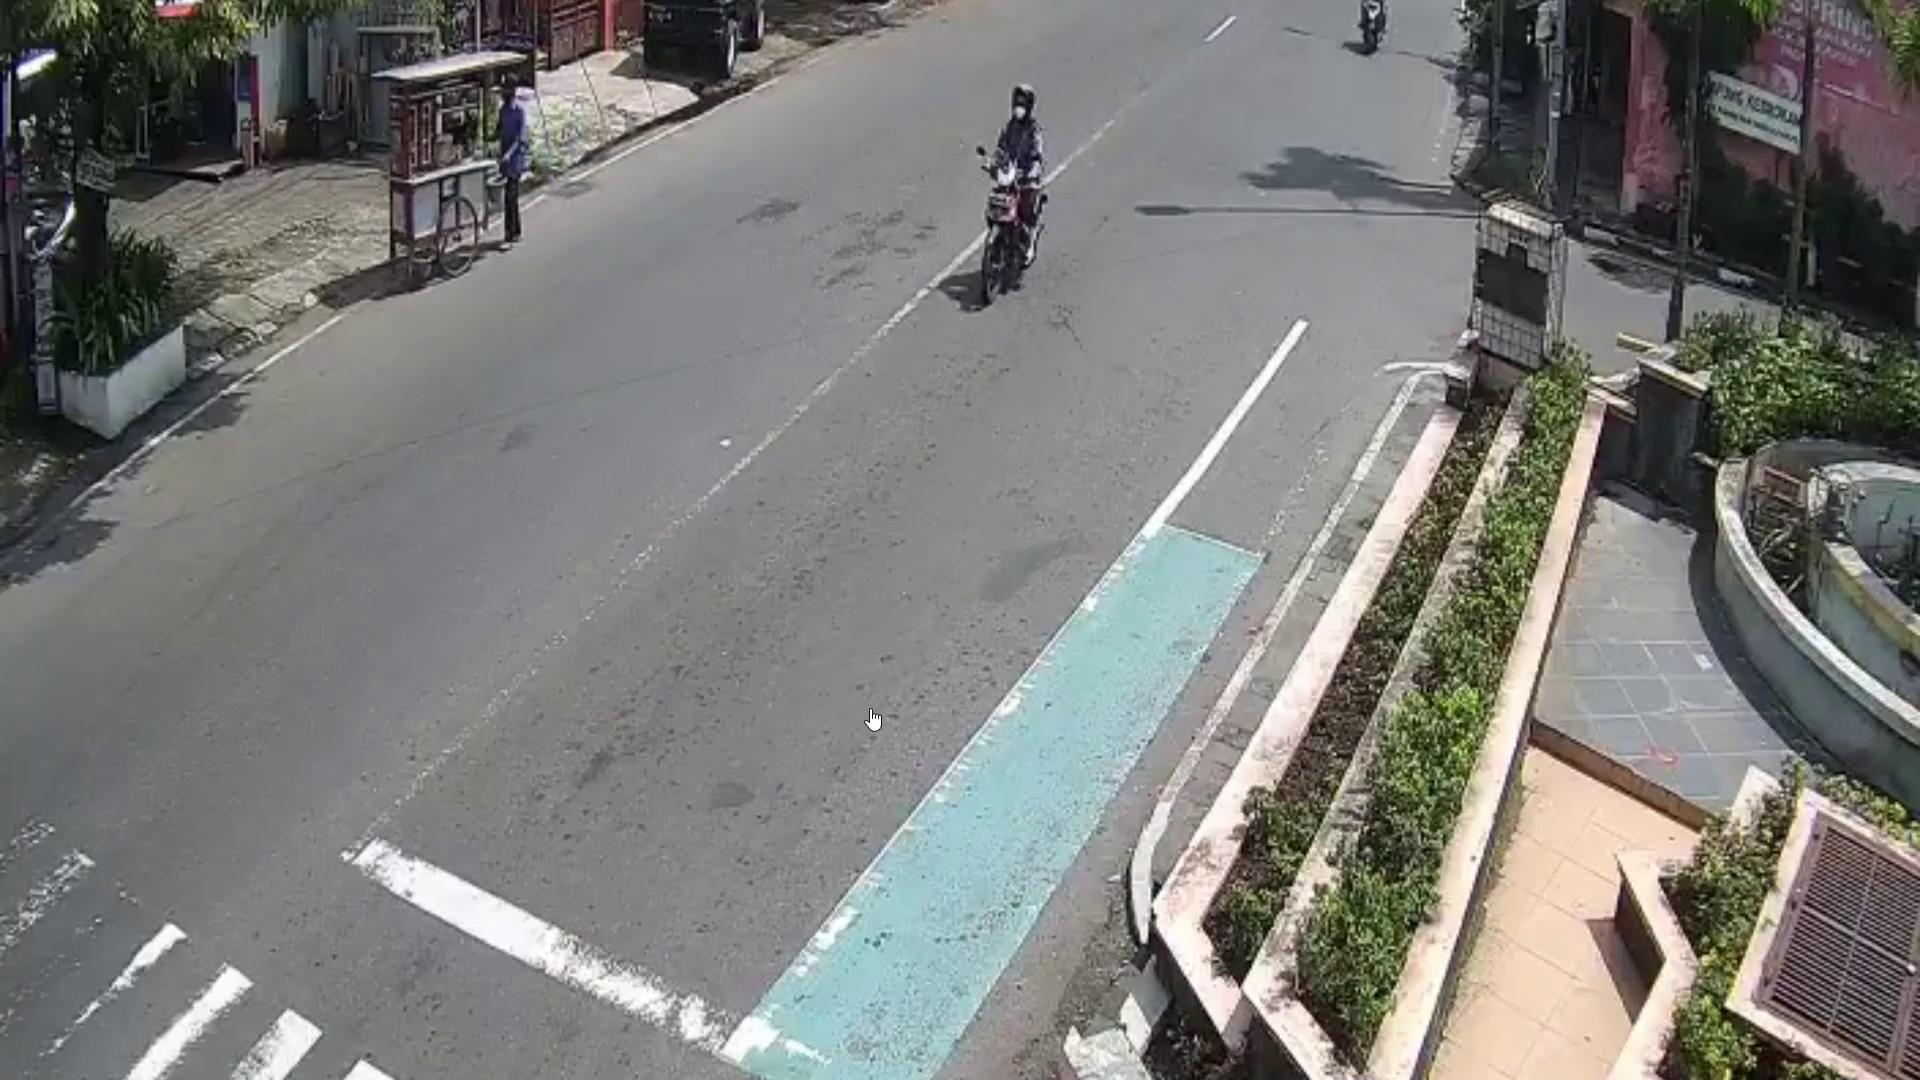motorbike: (982, 157, 1046, 311)
